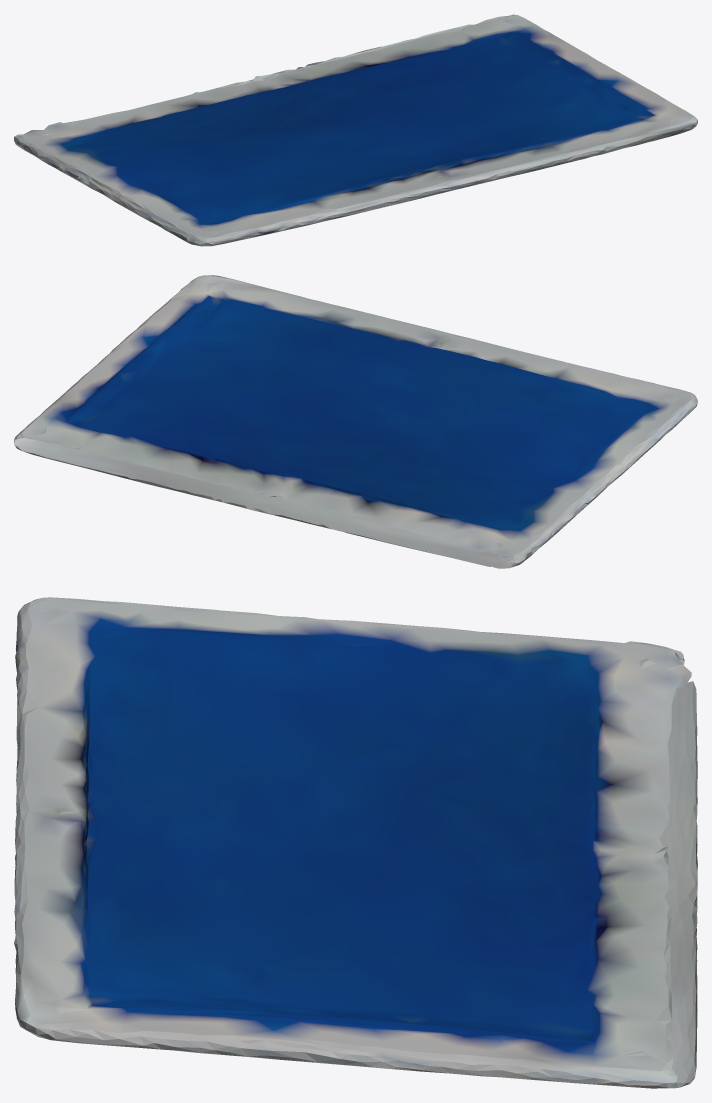
Rendered from scan.obj.
3 renders of one model, top to bottom at view 1: azimuth 30°, elevation 25°; view 2: azimuth 150°, elevation 25°; view 3: azimuth 270°, elevation 25°, orthographic. The views are drawn at different scales.
Visible parts, largest first — view 1: scan.ply; view 2: scan.ply; view 3: scan.ply.
Part boxes in pixels (<box>): scan.ply: <box>14,14,697,246</box>; scan.ply: <box>14,275,697,568</box>; scan.ply: <box>14,597,697,1088</box>.
Bounding box in the file's own units: 0.3532 × 0.0276 × 0.2336.
